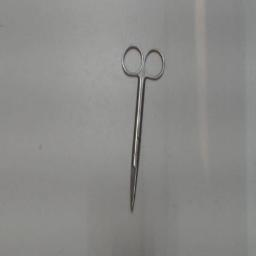Curved Mayo Scissors: (120, 42, 168, 214)
